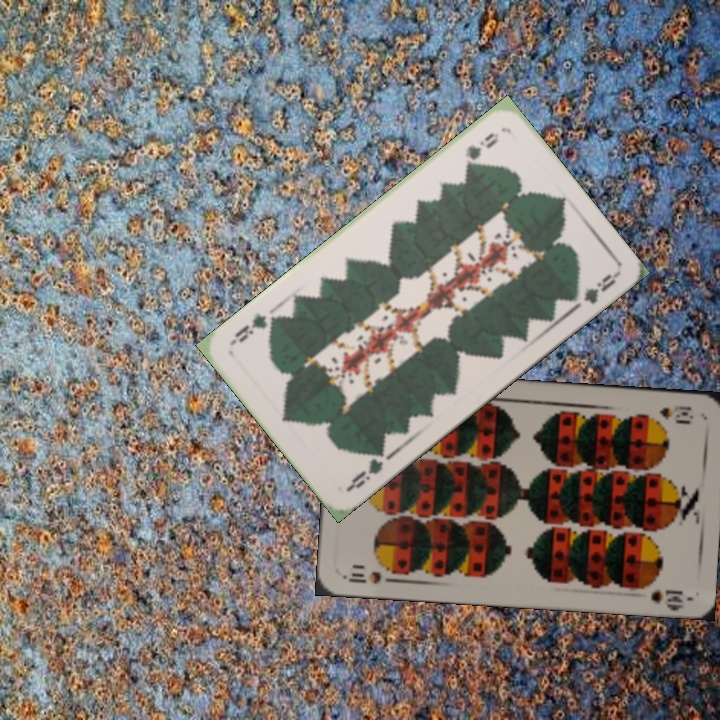G9: (343, 443, 387, 494), (460, 128, 502, 171)
S10: (341, 567, 400, 586), (655, 401, 696, 424)
